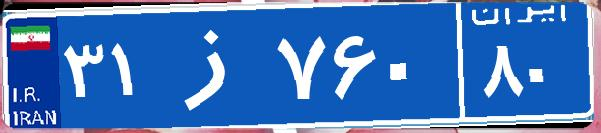0: (385, 28, 445, 110), (525, 38, 570, 115)
1: (110, 28, 158, 105)
3: (57, 26, 110, 107)
6: (330, 28, 385, 110)
7: (273, 28, 330, 110)
8: (475, 38, 525, 113)
ز: (158, 15, 273, 115)
